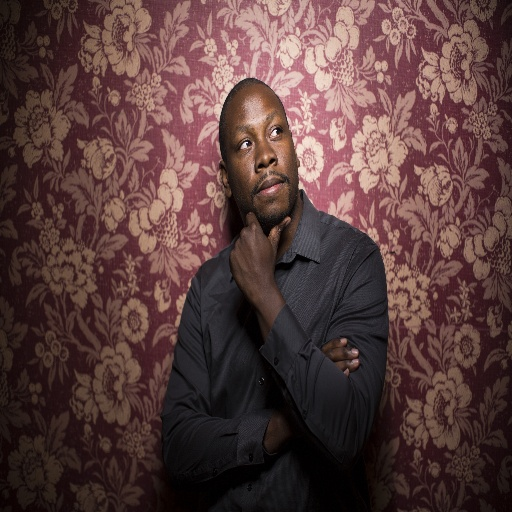hand: (226, 211, 291, 332), (283, 337, 361, 435)
